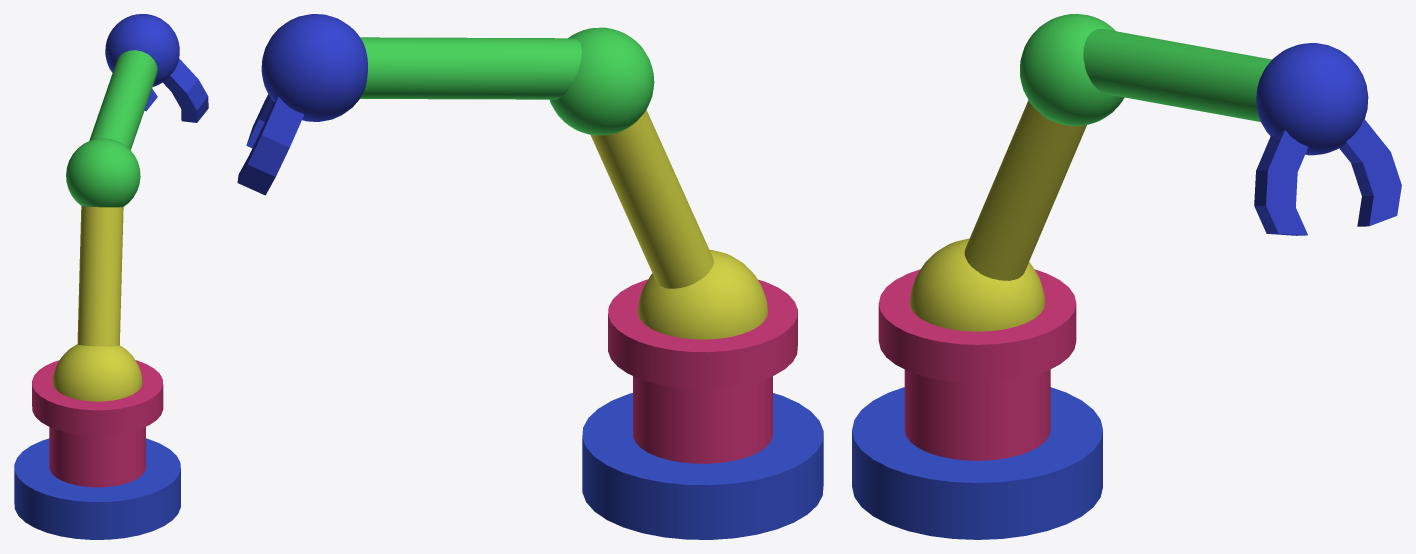
Rendered from robot_arm.obj.
The picture shows the model from 3 angles, left to right: view 1: azimuth 30°, elevation 25°; view 2: azimuth 150°, elevation 25°; view 3: azimuth 270°, elevation 25°; orthographic projection. The views are drawn at different scales.
Visible parts, largest first — view 1: Cylinder, Cylinder.006, Cylinder.002, Cylinder.003, Cylinder.004; view 2: Cylinder, Cylinder.006, Cylinder.003, Cylinder.002, Cylinder.004; view 3: Cylinder, Cylinder.006, Cylinder.002, Cylinder.003, Cylinder.004.
Part boxes in pixels (bbox=[...]): Cylinder: bbox=[14, 438, 180, 539]; Cylinder.006: bbox=[32, 360, 163, 487]; Cylinder.002: bbox=[52, 206, 142, 401]; Cylinder.003: bbox=[66, 50, 157, 207]; Cylinder.004: bbox=[105, 14, 208, 122]; Cylinder: bbox=[582, 393, 823, 539]; Cylinder.006: bbox=[608, 279, 797, 463]; Cylinder.003: bbox=[360, 27, 654, 135]; Cylinder.002: bbox=[590, 110, 767, 339]; Cylinder.004: bbox=[237, 14, 367, 195]; Cylinder: bbox=[852, 387, 1102, 539]; Cylinder.006: bbox=[878, 269, 1076, 460]; Cylinder.002: bbox=[910, 100, 1086, 331]; Cylinder.003: bbox=[1020, 14, 1271, 125]; Cylinder.004: bbox=[1254, 43, 1401, 235].
Size of the model in its own units: 3.92 by 4.86 by 4.38.
